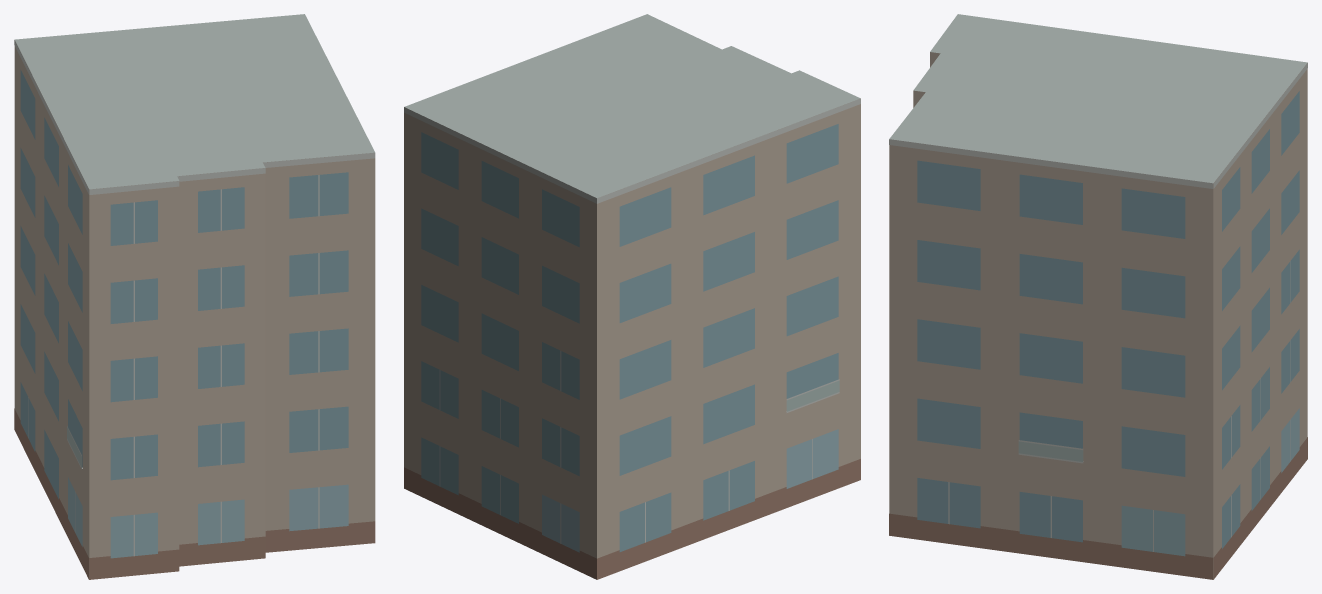
File: survey-upis-32674394.glb
The picture shows the model from 3 angles, left to right: view 1: azimuth 30°, elevation 25°; view 2: azimuth 150°, elevation 25°; view 3: azimuth 270°, elevation 25°; orthographic projection. The views are drawn at different scales.
Parts seen in each view (by area): view 1: survey-upis-32674394.tmp; view 2: survey-upis-32674394.tmp; view 3: survey-upis-32674394.tmp.
Part boxes in pixels (left/top/right/bottom): survey-upis-32674394.tmp: left=14, top=14, right=375, bottom=579; survey-upis-32674394.tmp: left=404, top=14, right=860, bottom=579; survey-upis-32674394.tmp: left=889, top=14, right=1307, bottom=579.
Size of the model in its own units: 15.27 by 16.66 by 15.95.
